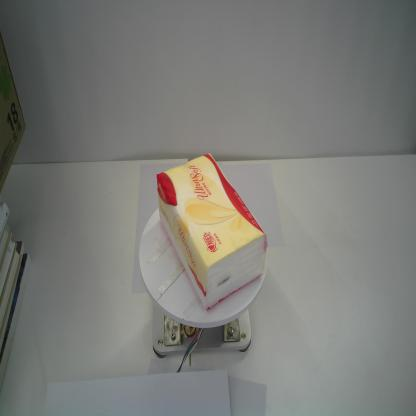Tissue: (157, 153, 267, 310)
